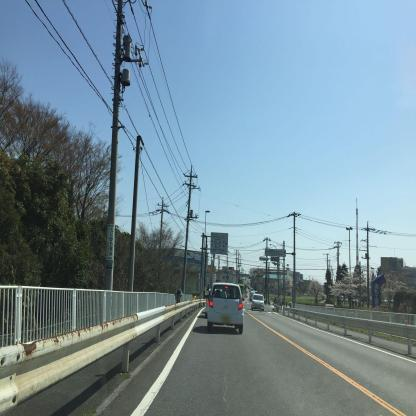Someiyoshino: (324, 267, 372, 304), (376, 270, 409, 303), (278, 273, 299, 300), (306, 276, 327, 302)
